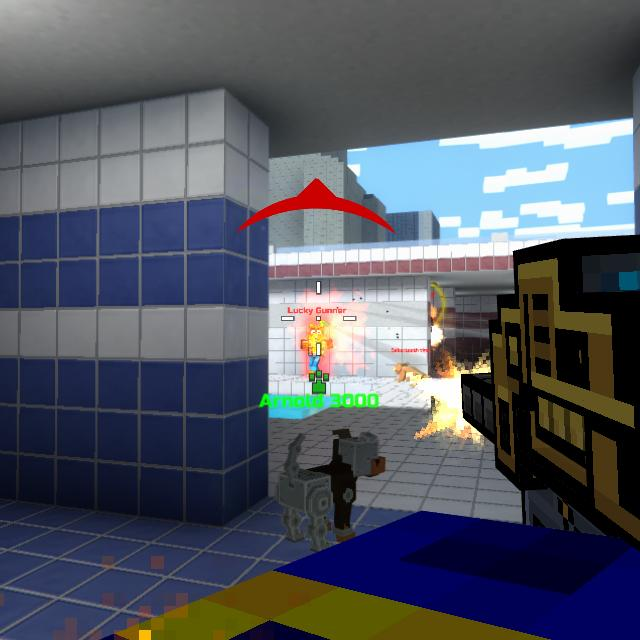Enemy: (300, 322, 333, 379)
